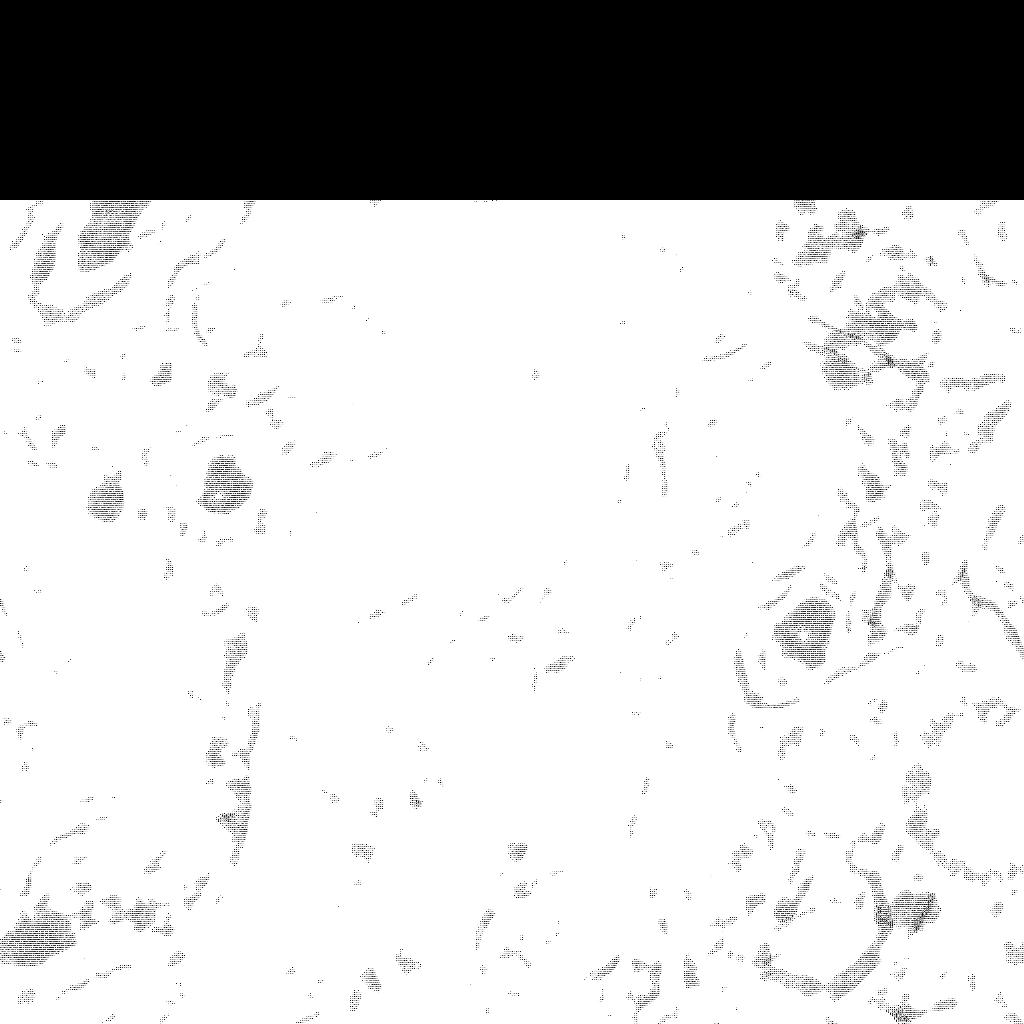axone: (765, 593, 841, 675), (71, 200, 152, 275), (1, 904, 81, 970), (867, 886, 944, 942), (193, 452, 257, 517), (80, 468, 129, 528)
